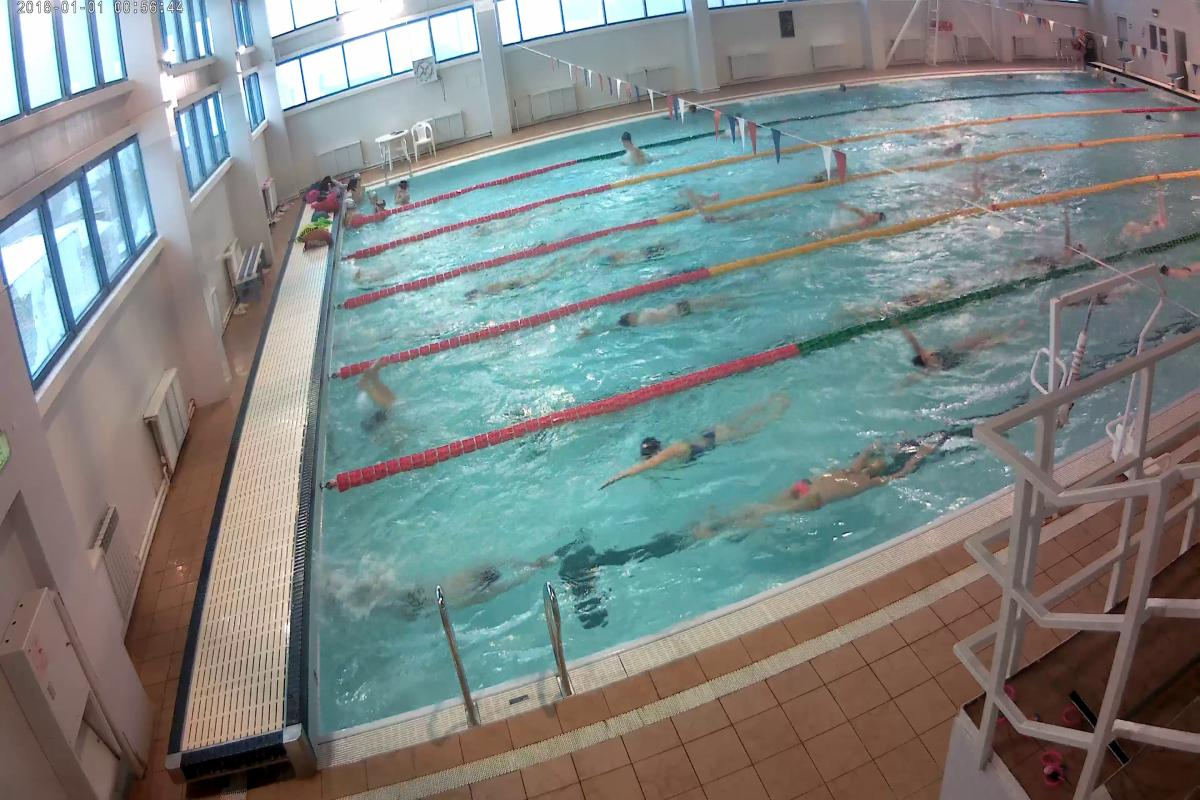swimmer: (732, 434, 917, 532), (593, 393, 784, 481), (386, 546, 511, 624), (902, 322, 1008, 386), (357, 370, 426, 465), (605, 283, 745, 328), (467, 256, 577, 309), (817, 198, 888, 229), (624, 128, 653, 170), (1162, 256, 1200, 280)
